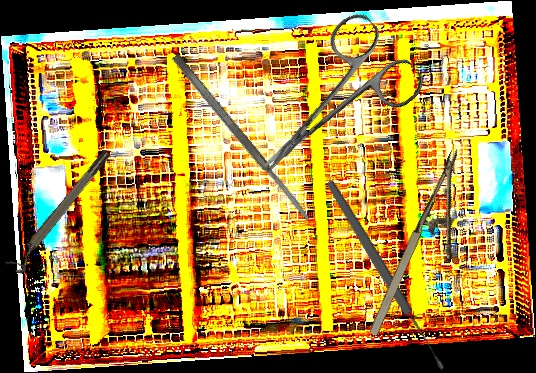Fixation Ring: (5, 147, 118, 277)
Iris Scissors: (228, 6, 430, 204)
Needle Holder: (363, 146, 496, 351)
Spatula Surgical: (170, 52, 313, 224)
Surgical Spoon: (323, 178, 448, 373)
